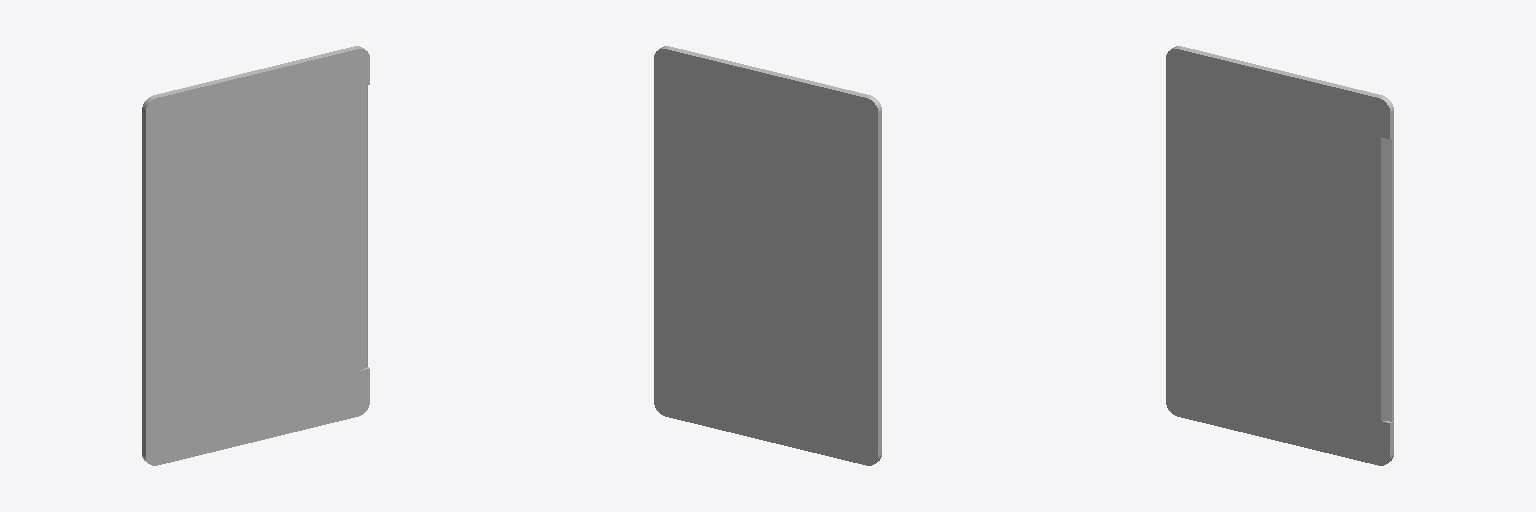
File: body_l.obj
The picture shows the model from 3 angles: view 1: azimuth 30°, elevation 25°; view 2: azimuth 150°, elevation 25°; view 3: azimuth 330°, elevation 25°; orthographic projection.
Parts seen in each view (by area): view 1: Solid_1; view 2: Solid_1; view 3: Solid_1.
Boxes of the visible parts, box(x1,y1,x2,y2) form: Solid_1: box(142, 46, 369, 465); Solid_1: box(654, 46, 881, 465); Solid_1: box(1166, 46, 1393, 465).
Bounding box in the file's own units: 18.88 × 29.55 × 0.537.